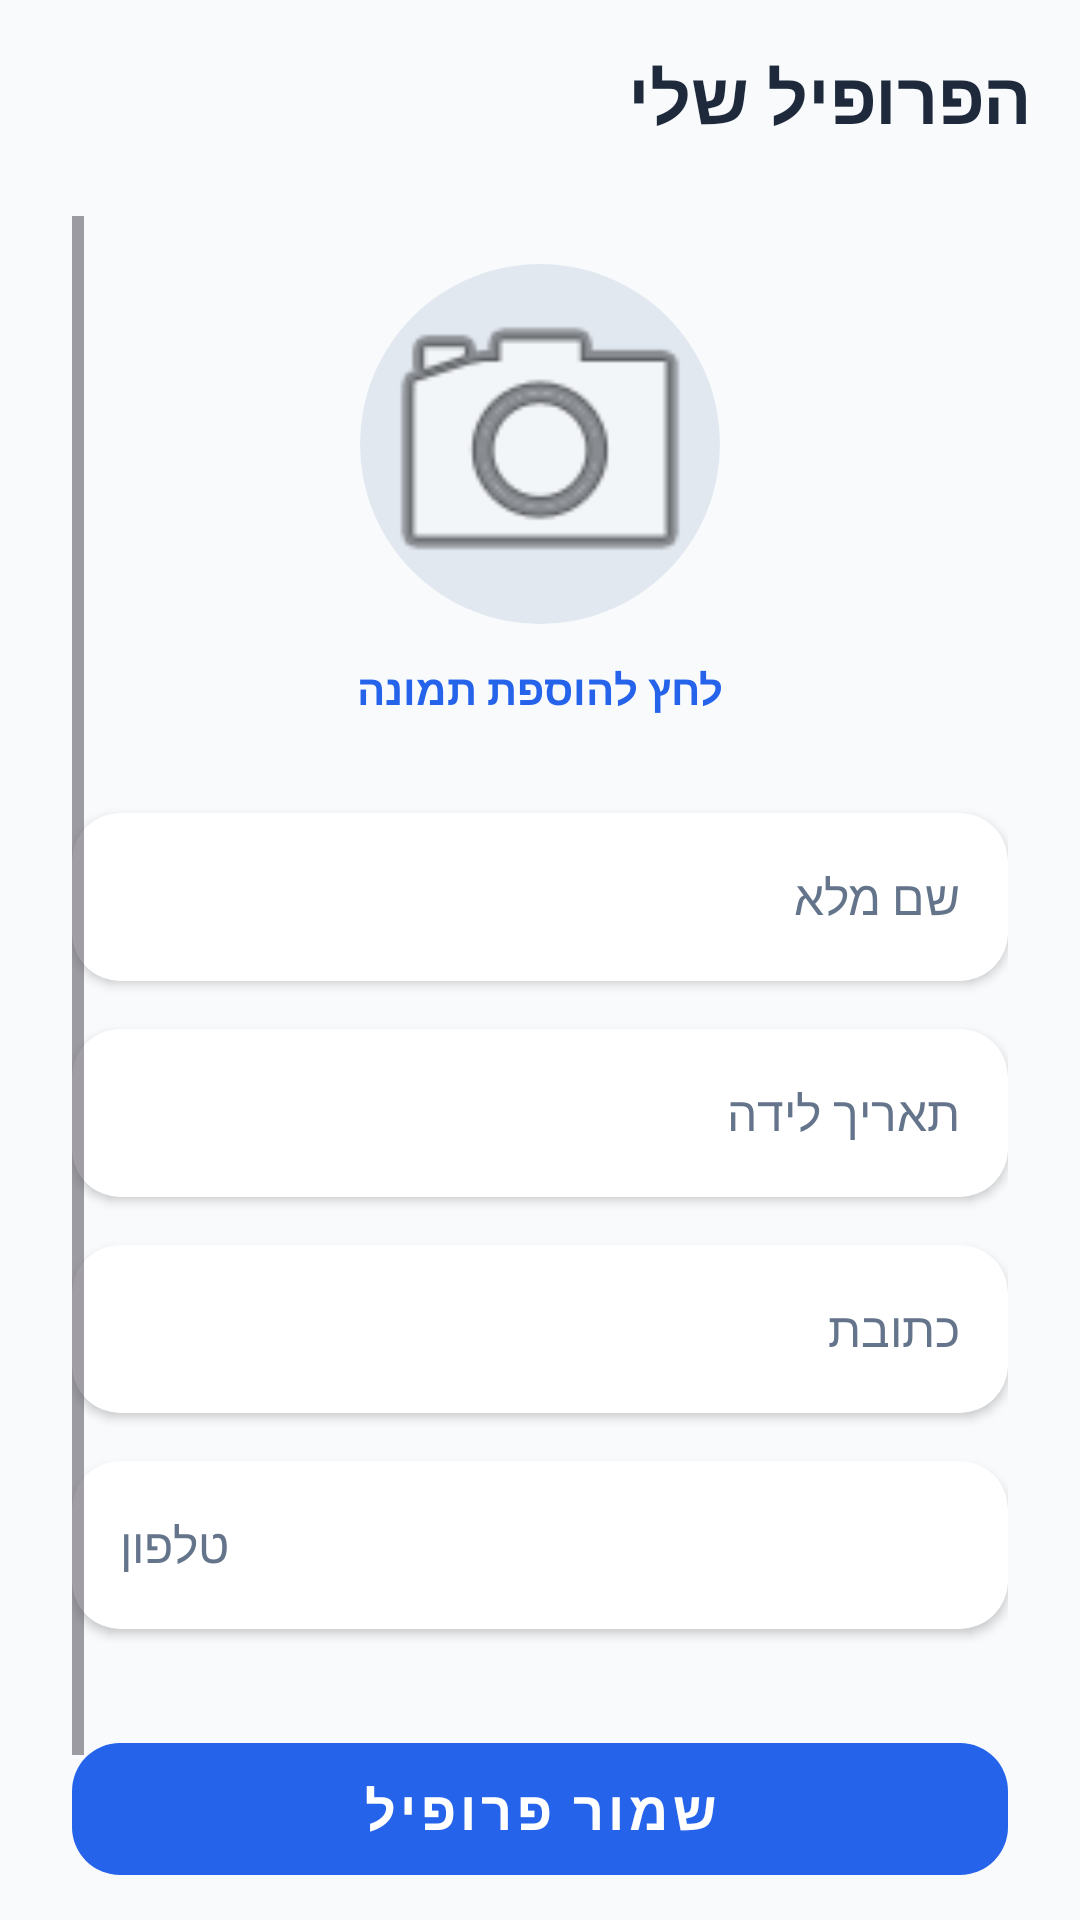

Where to tap for icons on this 1080w x 1920h app screen, as [x,y]:
camera: [540,438]
